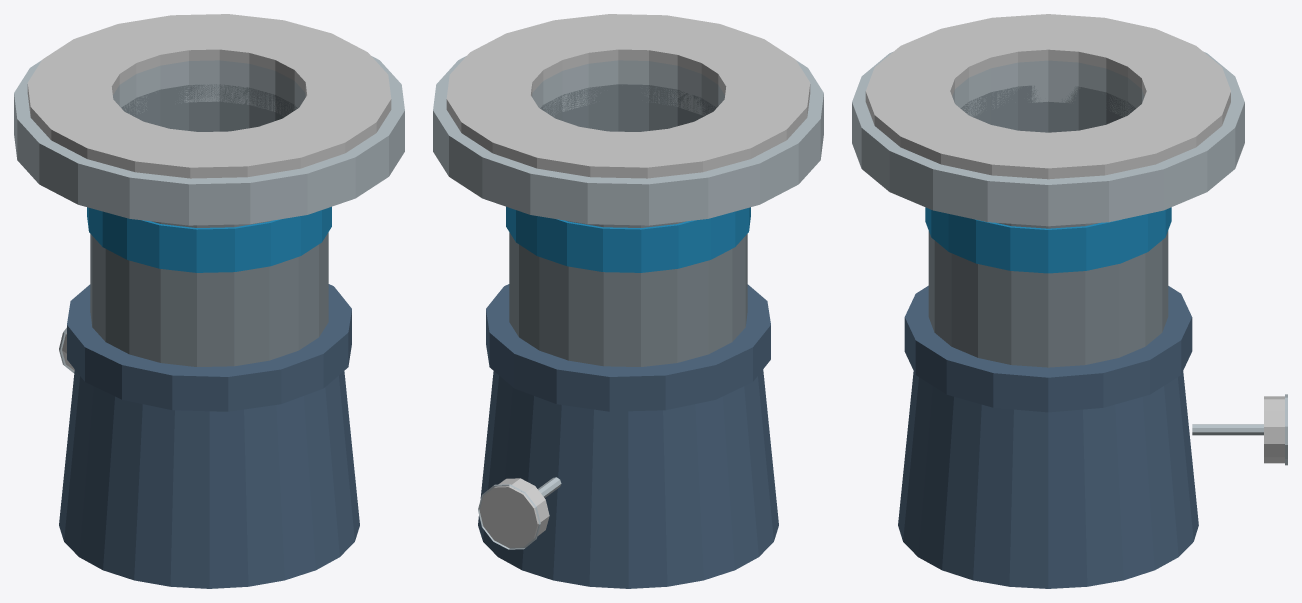
File: cell_64.obj
3 views of the same model, side by side, from view 1: azimuth 30°, elevation 25°; view 2: azimuth 150°, elevation 25°; view 3: azimuth 270°, elevation 25° (orthographic).
Bounding box in the file's own units: 0.82 × 1 × 0.91.
